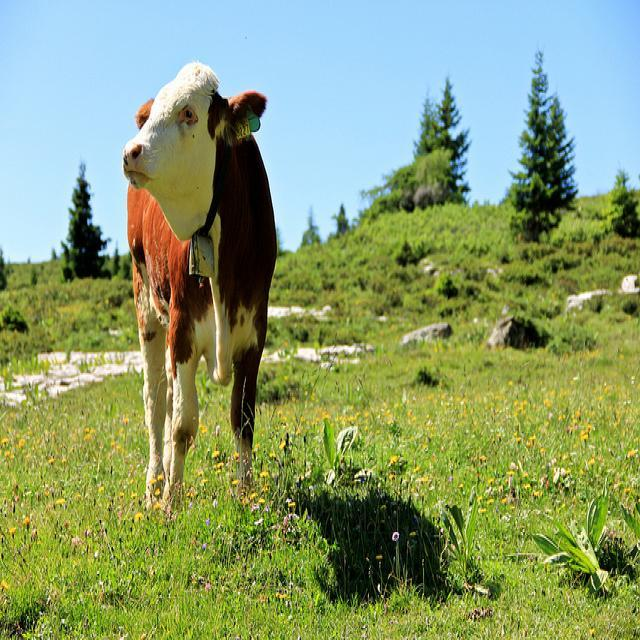cow: (123, 63, 277, 511)
